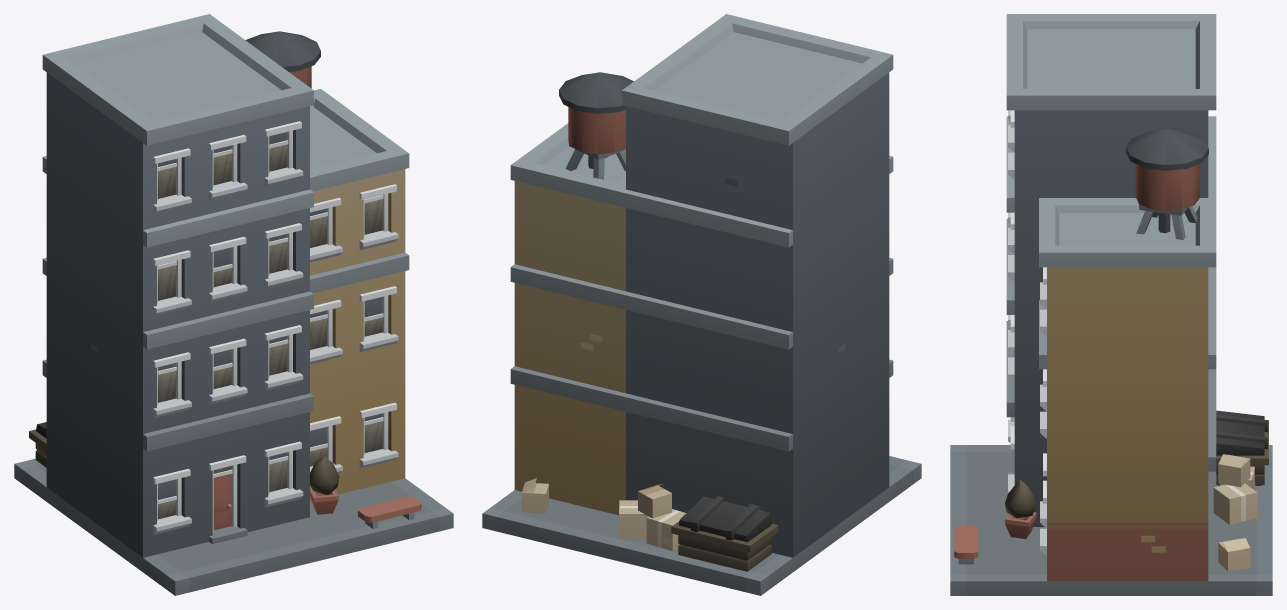
File: cairo-residence-kay.glb
3 views of the same model, side by side, from view 1: azimuth 30°, elevation 25°; view 2: azimuth 150°, elevation 25°; view 3: azimuth 270°, elevation 25° (orthographic).
Visible parts, largest first — view 1: building_H; view 2: building_H; view 3: building_H.
Part boxes in pixels (box(x1,y1,x2,y2)): building_H: box(14, 14, 453, 595); building_H: box(482, 14, 921, 595); building_H: box(950, 14, 1272, 595).
Size of the model in its own units: 2.01 by 3.05 by 2.
2 materials, 2 textured.
